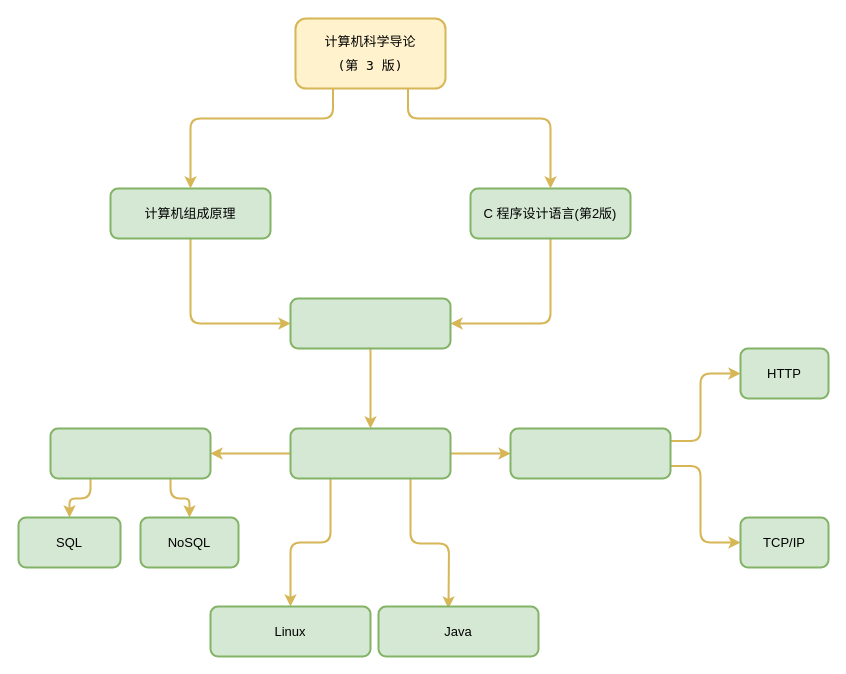
Some shapes in this 846 by 674 pixel diagram are drawn without their labels. The shapes that lost their labels are listed below. From the top down, each one's box as (x1, y1, x2, y2) in pixels, then its label:
(289, 297, 451, 349): 深入理解计算机系统
(49, 427, 211, 479): 数据库系统概念 Writer: 希尔伯沙茨
(289, 427, 451, 479): 现代操作系统 (原书第4版) Writer: 塔嫩鲍姆
(509, 427, 671, 479): 计算机网络 Writer: 塔嫩鲍姆
